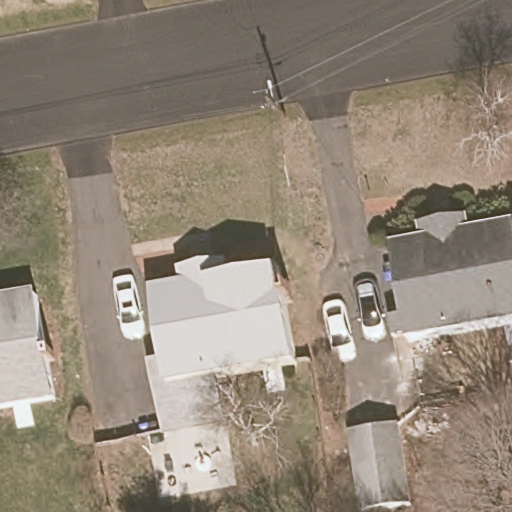DT: (253, 79, 287, 112)
